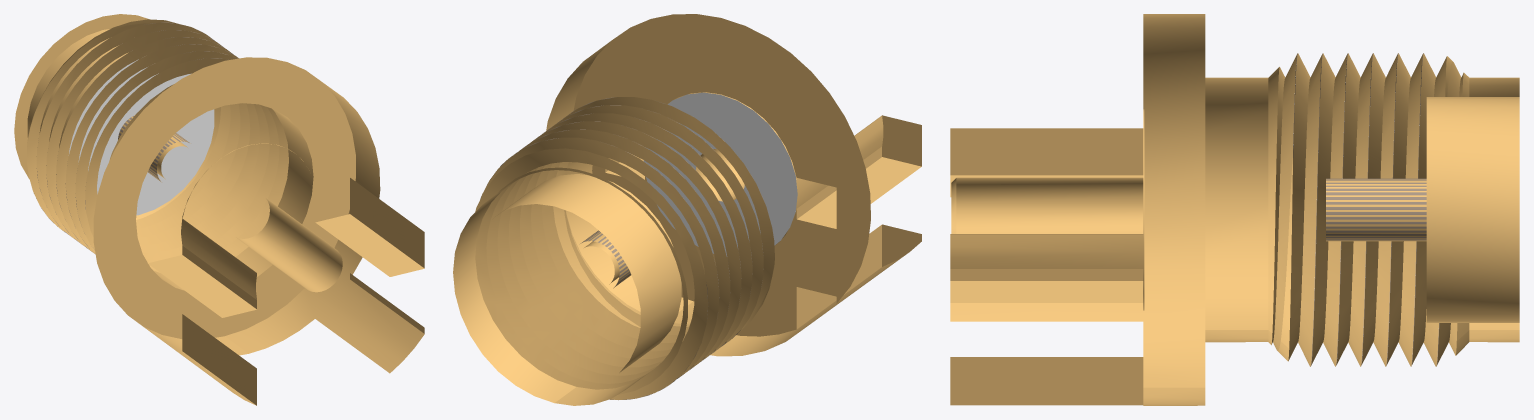
File: sfe-sma-edge.glb
3 renders of one model, left to right at view 1: azimuth 30°, elevation 25°; view 2: azimuth 150°, elevation 25°; view 3: azimuth 270°, elevation 25°, orthographic. The views are drawn at different scales.
Parts seen in each view (by area): view 1: 1_0.5833333333333334_0.25_0, 1_1_1_0.85, 0.4166666666666667_0.3333333333333333_0.25_0; view 2: 1_0.5833333333333334_0.25_0, 1_1_1_0.85, 0.4166666666666667_0.3333333333333333_0.25_0; view 3: 1_0.5833333333333334_0.25_0, 0.4166666666666667_0.3333333333333333_0.25_0.
Part boxes in pixels (bbox=[...]): 1_0.5833333333333334_0.25_0: bbox=[14, 14, 424, 405]; 1_1_1_0.85: bbox=[68, 59, 214, 215]; 0.4166666666666667_0.3333333333333333_0.25_0: bbox=[36, 22, 234, 254]; 1_0.5833333333333334_0.25_0: bbox=[453, 14, 921, 405]; 1_1_1_0.85: bbox=[643, 92, 797, 256]; 0.4166666666666667_0.3333333333333333_0.25_0: bbox=[480, 97, 769, 400]; 1_0.5833333333333334_0.25_0: bbox=[950, 14, 1519, 405]; 0.4166666666666667_0.3333333333333333_0.25_0: bbox=[1293, 53, 1439, 366].
Bounding box in the file's own units: 0.7921 × 0.793 × 1.15.
